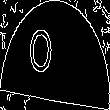O_S: (42, 26, 68, 84)
